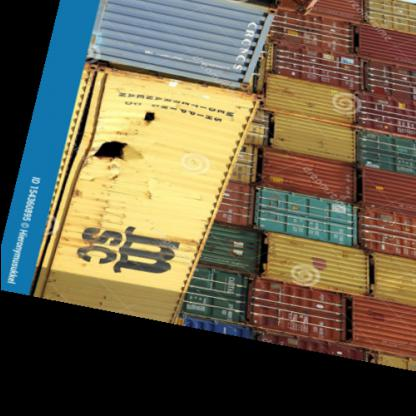Damage: (92, 100, 164, 164)
